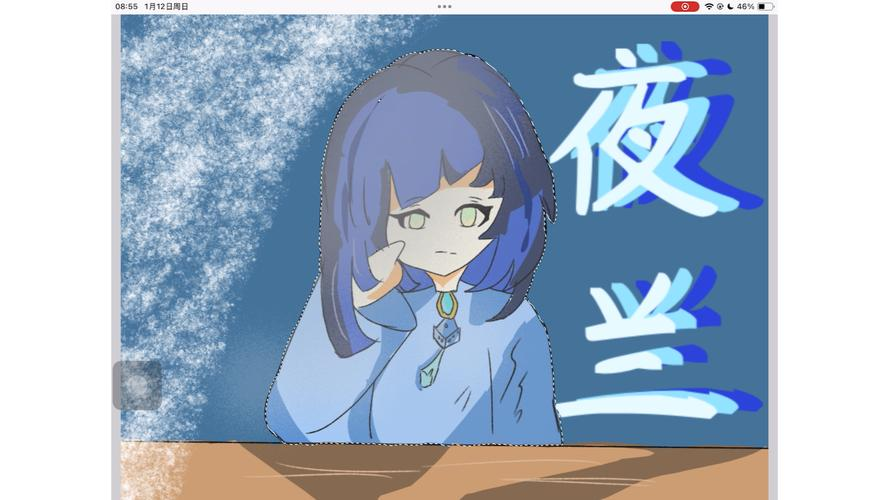夜兰: (269, 54, 567, 454)
